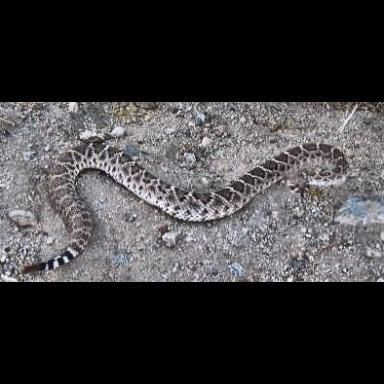snake: (17, 140, 351, 275)
